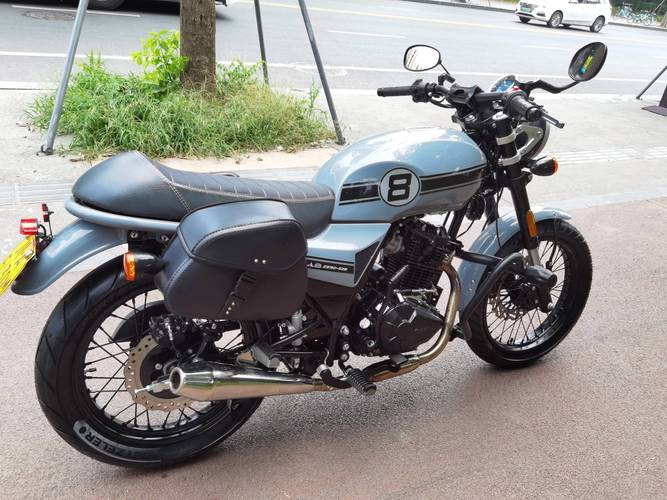摩托车: (3, 81, 607, 472)
